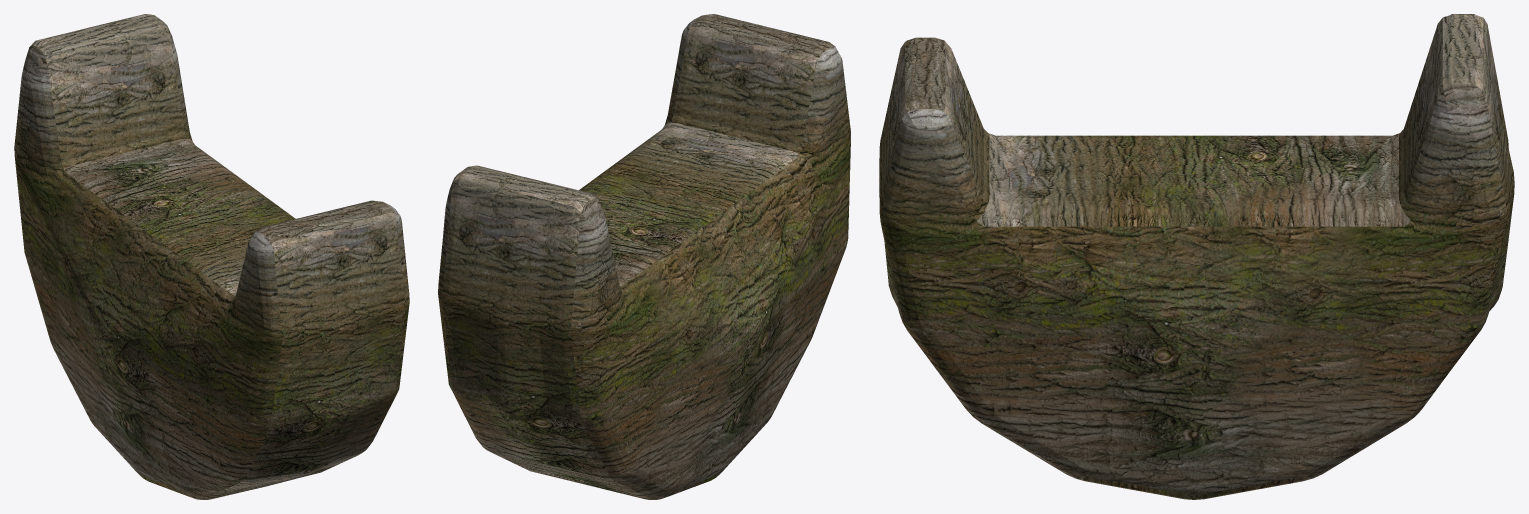
Rendered from Log2.fbx.
The picture shows the model from 3 angles, left to right: view 1: azimuth 30°, elevation 25°; view 2: azimuth 150°, elevation 25°; view 3: azimuth 270°, elevation 25°; orthographic projection. The views are drawn at different scales.
Parts seen in each view (by area): view 1: Log2; view 2: Log2; view 3: Log2.
Boxes of the visible parts, x1,y1,x2,y2 form: Log2: (14, 14, 409, 499); Log2: (438, 14, 850, 499); Log2: (879, 14, 1514, 499).
Size of the model in its own units: 131 by 221 by 302.
